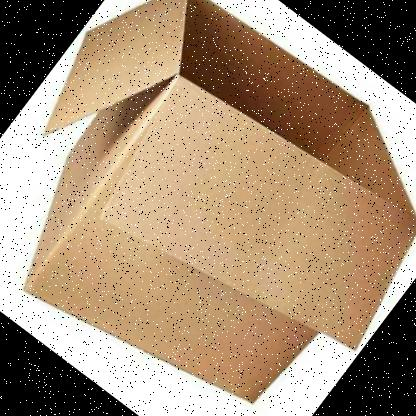box: (22, 1, 416, 404)
opened: (44, 1, 416, 351)
